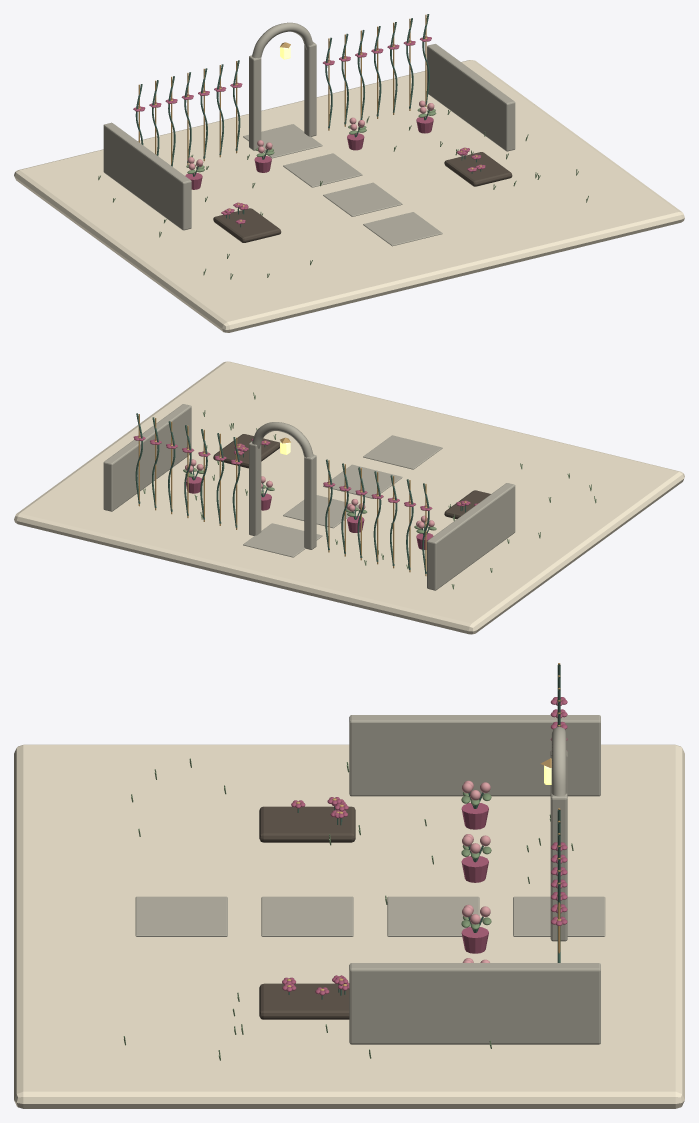
The model's file is beast_rose-CPVA_PJa.glb.
3 renders of one model, top to bottom at view 1: azimuth 30°, elevation 25°; view 2: azimuth 150°, elevation 25°; view 3: azimuth 270°, elevation 25°, orthographic. The views are drawn at different scales.
Parts seen in each view (by area): view 1: world_cream.047, world_stone.047, world_leafdark.047, world_darkwood.047, world_brass.047, world_rose.047, world_leaf.047, world_flower.047; view 2: world_cream.047, world_stone.047, world_leafdark.047, world_brass.047, world_rose.047, world_darkwood.047, world_leaf.047, world_flower.047; view 3: world_cream.047, world_stone.047, world_darkwood.047, world_rose.047, world_leaf.047, world_flower.047, world_leafdark.047.
Boxes of the visible parts, left/top/right/bottom form: world_cream.047: left=14, top=60, right=684, bottom=332; world_stone.047: left=103, top=22, right=515, bottom=246; world_leafdark.047: left=135, top=14, right=481, bottom=227; world_darkwood.047: left=213, top=152, right=512, bottom=242; world_brass.047: left=138, top=14, right=481, bottom=221; world_rose.047: left=133, top=36, right=485, bottom=224; world_leaf.047: left=98, top=108, right=588, bottom=279; world_flower.047: left=187, top=100, right=434, bottom=169; world_cream.047: left=14, top=361, right=684, bottom=634; world_stone.047: left=103, top=404, right=515, bottom=590; world_leafdark.047: left=135, top=413, right=465, bottom=573; world_brass.047: left=138, top=414, right=466, bottom=576; world_rose.047: left=133, top=435, right=478, bottom=549; world_darkwood.047: left=213, top=434, right=490, bottom=518; world_leaf.047: left=143, top=392, right=596, bottom=589; world_flower.047: left=185, top=459, right=434, bottom=528; world_cream.047: left=14, top=744, right=684, bottom=1108; world_stone.047: left=135, top=715, right=605, bottom=1044; world_darkwood.047: left=259, top=806, right=355, bottom=1019; world_rose.047: left=282, top=697, right=567, bottom=995; world_leaf.047: left=123, top=758, right=573, bottom=1060; world_flower.047: left=462, top=780, right=490, bottom=962; world_leafdark.047: left=288, top=664, right=560, bottom=999.
Bounding box in the file's own units: 20 × 5.34 × 16.
